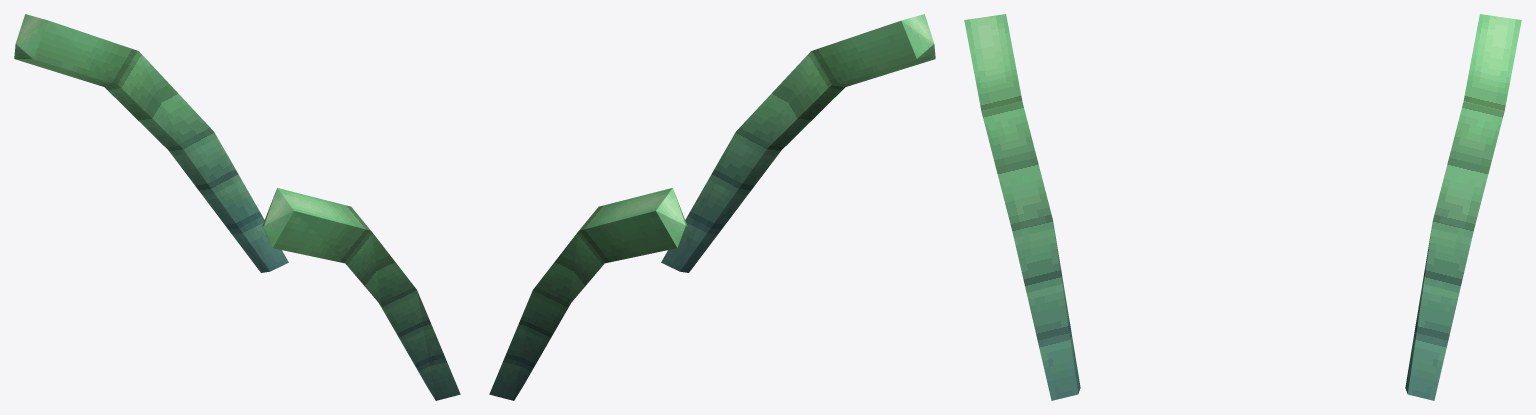
File: Bison_bugAntenna.obj
3 renders of one model, left to right at view 1: azimuth 30°, elevation 25°; view 2: azimuth 150°, elevation 25°; view 3: azimuth 270°, elevation 25°, orthographic. The views are drawn at different scales.
Visible parts, largest first — view 1: Bison_bugAntenna_tri; view 2: Bison_bugAntenna_tri; view 3: Bison_bugAntenna_tri.
Part boxes in pixels (left/top/right/bottom): Bison_bugAntenna_tri: left=14, top=14, right=460, bottom=400; Bison_bugAntenna_tri: left=489, top=14, right=935, bottom=400; Bison_bugAntenna_tri: left=964, top=14, right=1521, bottom=400.
Bounding box in the file's own units: 0.1113 × 0.1294 × 0.2267.
1 material, 1 textured.
